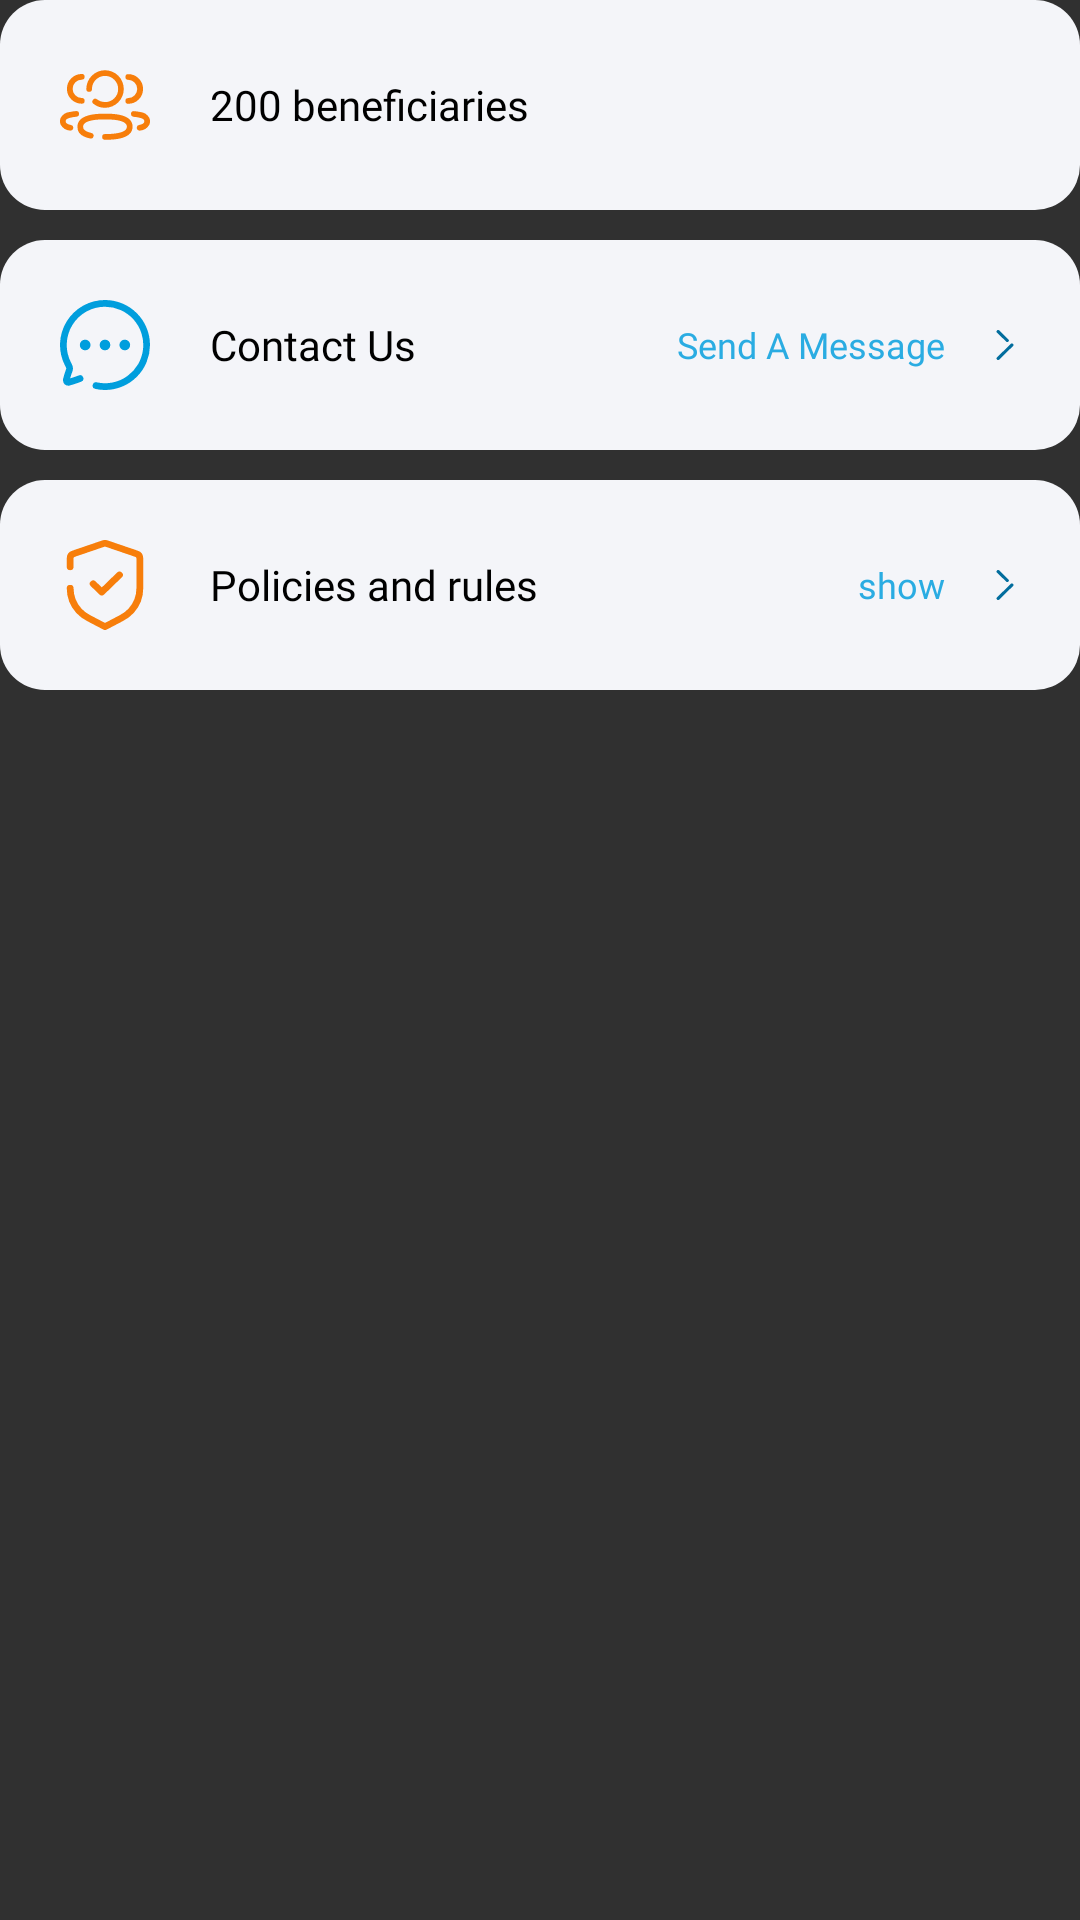

Icon click points for this 1080 × 1920 phone screenshot, format (x,y):
next: (1005,345), (1005,585)
people: (105,105)
